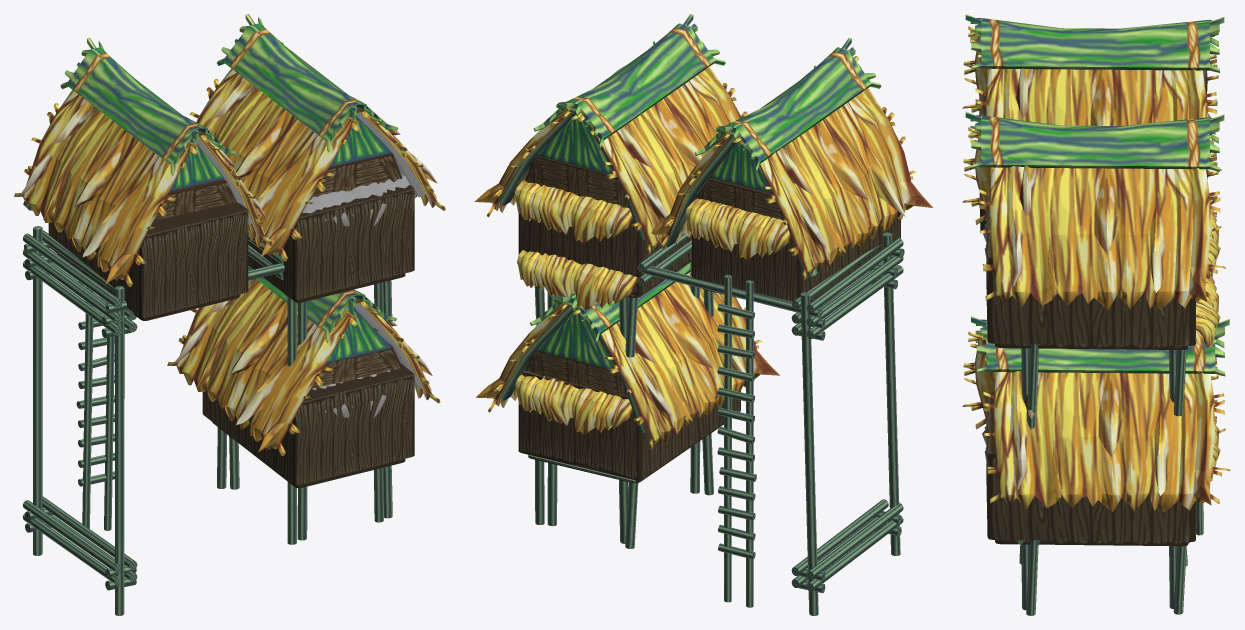
The model's file is Triple maison.FBX.
3 views of the same model, side by side, from view 1: azimuth 30°, elevation 25°; view 2: azimuth 150°, elevation 25°; view 3: azimuth 270°, elevation 25° (orthographic). The views are drawn at different scales.
Visible parts, largest first — view 1: triple maison; view 2: triple maison; view 3: triple maison.
Part boxes in pixels (x1=…): triple maison: x1=14, y1=14, x2=445, y2=615; triple maison: x1=474, y1=14, x2=932, y2=615; triple maison: x1=962, y1=14, x2=1230, y2=615.
Size of the model in its own units: 407 by 533 by 253.
